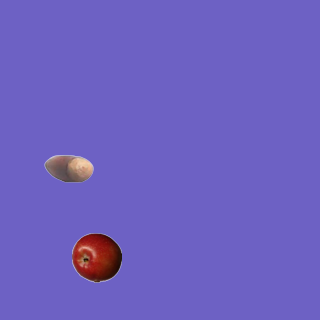Apple Braeburn: (71, 232, 121, 282)
Hazelnut: (43, 143, 93, 193)
